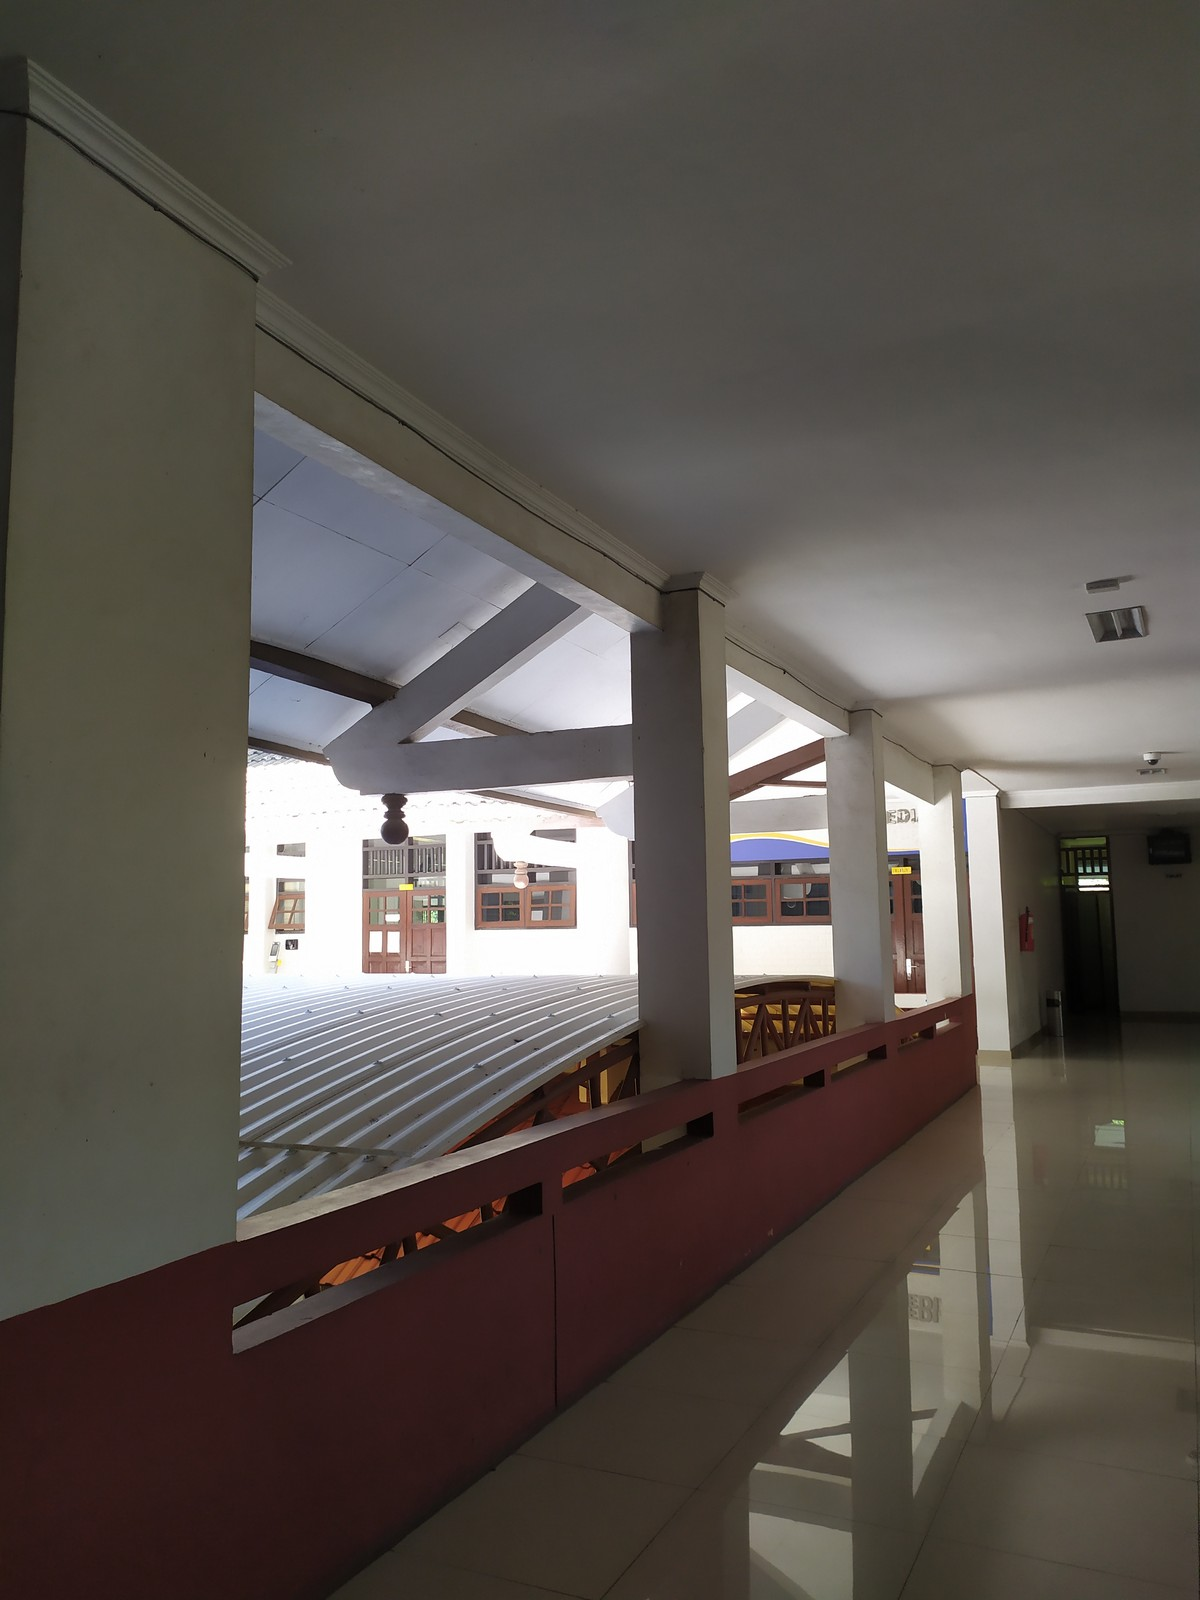concrete beam: (408, 724, 642, 794)
concrete column: (626, 619, 744, 1094), (822, 734, 904, 1038), (918, 794, 984, 1013)
